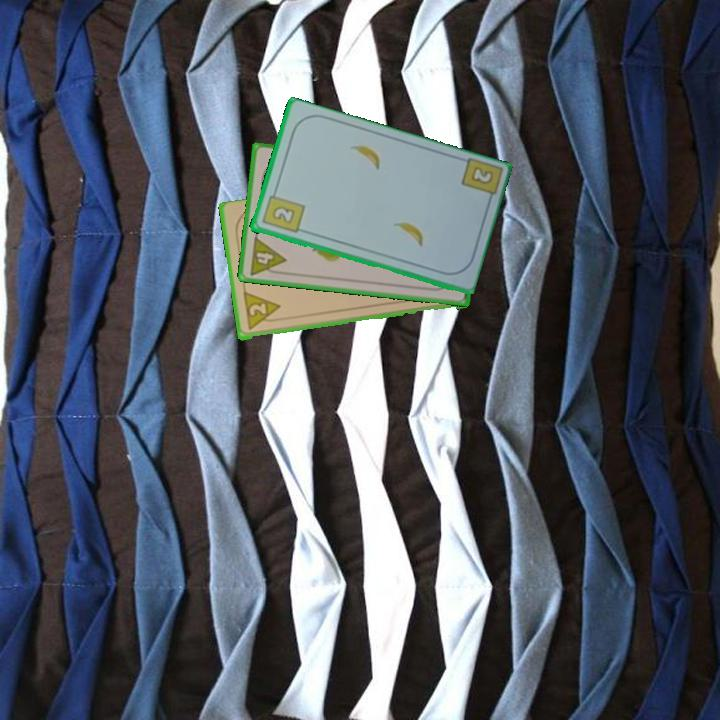2b: (258, 186, 307, 236), (467, 163, 494, 186)
2p: (240, 290, 284, 333)
4p: (246, 233, 289, 278)
